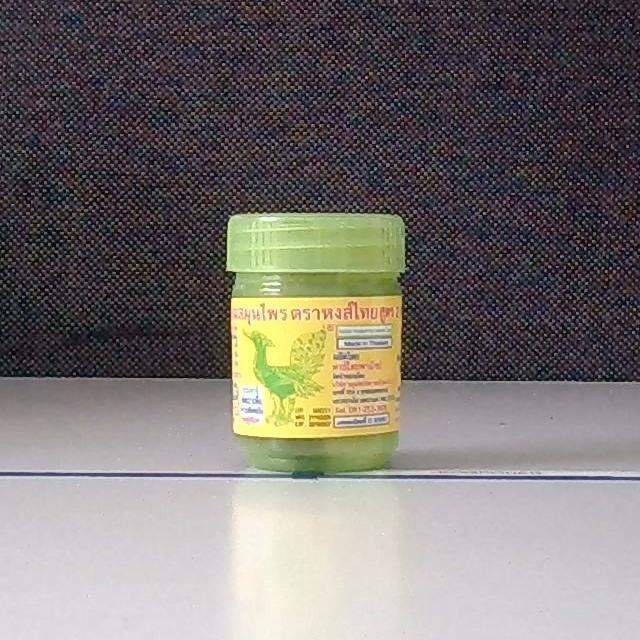small: (227, 210, 408, 475)
